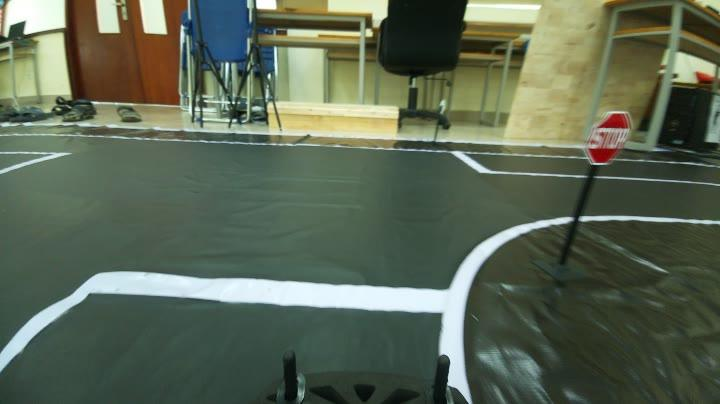stop: (581, 110, 645, 172)
